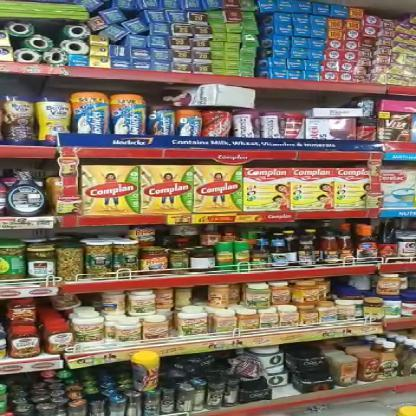Complan Pista Badam: (82, 164, 140, 214), (142, 165, 192, 212), (193, 166, 242, 212), (244, 167, 290, 210), (292, 168, 336, 210), (336, 167, 376, 210)
